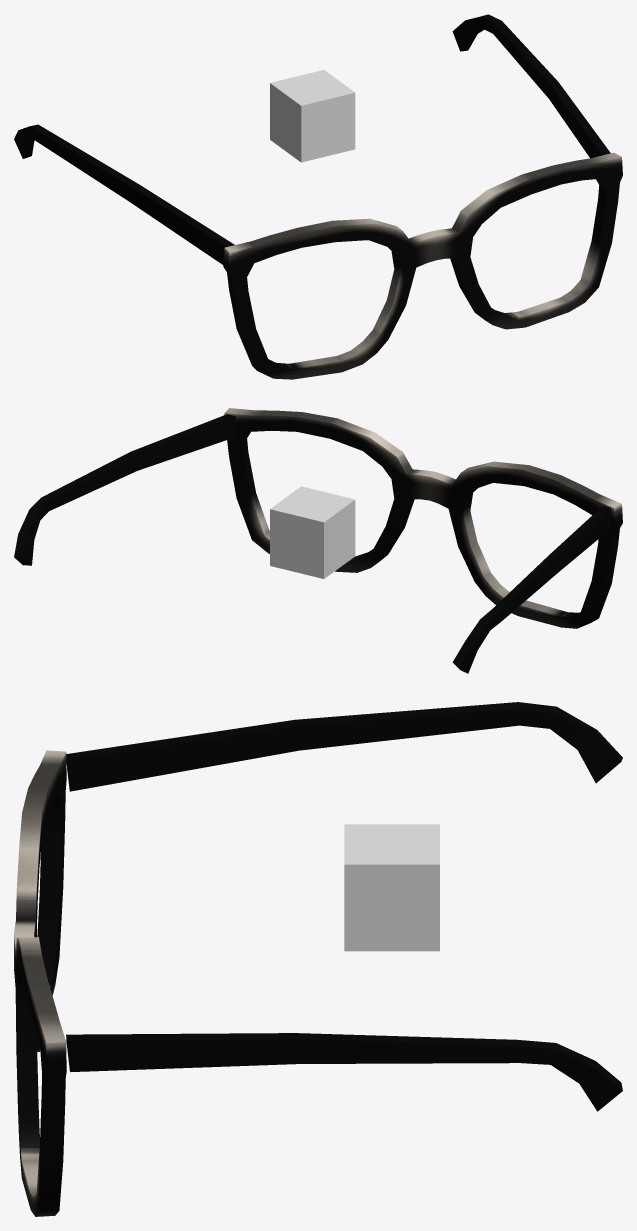
The model's file is girl_glasses6.FBX.
3 views of the same model, one above another, from view 1: azimuth 30°, elevation 25°; view 2: azimuth 150°, elevation 25°; view 3: azimuth 270°, elevation 25° (orthographic). The views are drawn at different scales.
Visible parts, largest first — view 1: girl_glasses019, faceSpawn; view 2: girl_glasses019, faceSpawn; view 3: girl_glasses019, faceSpawn.
Part boxes in pixels (<box>): girl_glasses019: <box>14,14,622,379</box>; faceSpawn: <box>270,70,355,162</box>; girl_glasses019: <box>14,408,622,673</box>; faceSpawn: <box>270,486,355,578</box>; girl_glasses019: <box>14,702,622,1216</box>; faceSpawn: <box>344,824,439,951</box>.
Bounding box in the file's own units: 42.55 × 15.29 × 31.81.
